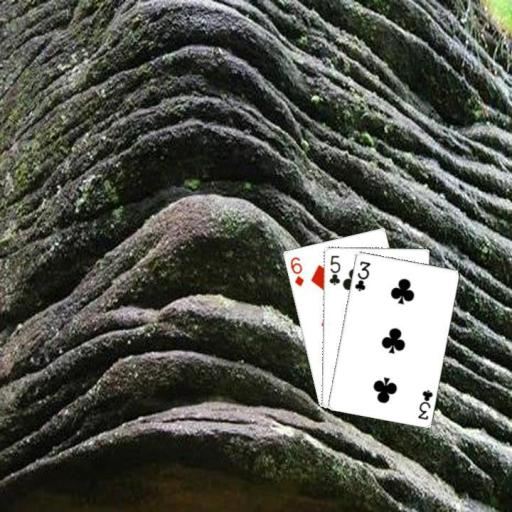3C: (351, 258, 372, 293), (415, 386, 435, 421)
5C: (327, 252, 342, 286)
6D: (287, 253, 305, 288)
